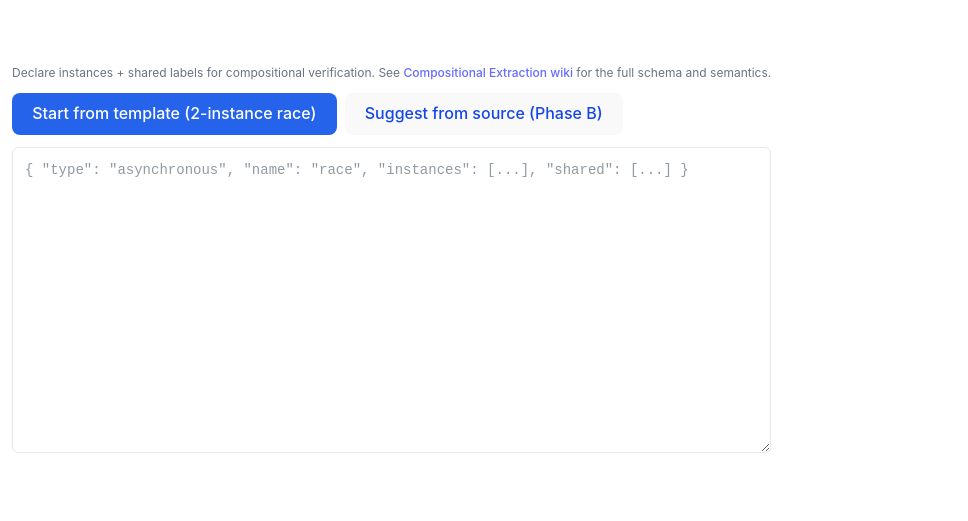
Test case: CompositionEditor › shows a 'no idioms detected' fallback when findings is empty
The width and height of the screenshot is (968, 521).
Click the button with aria-label "Suggest composition from source". click: (484, 114)
box: 345,93 -> 623,135
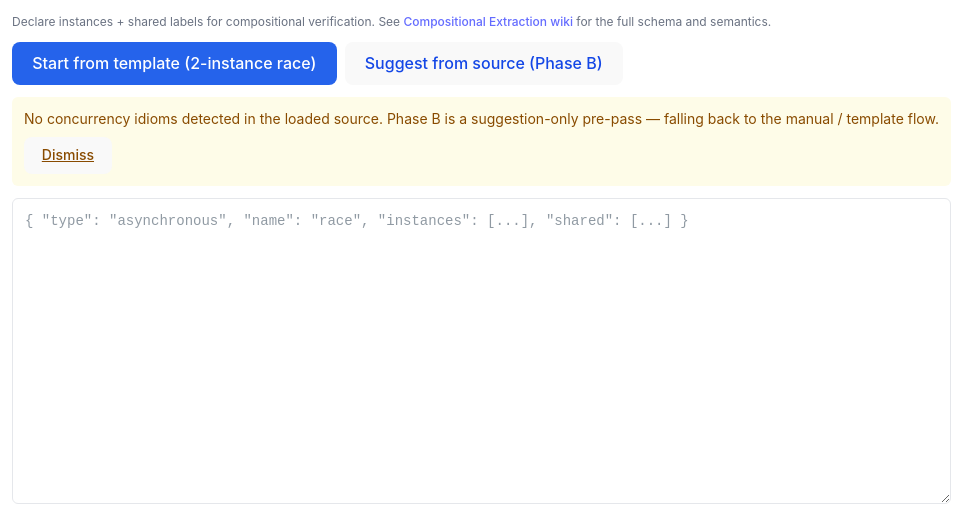
Expected: the text "No concurrency idioms detected" is shown, 24,110 -> 939,126
